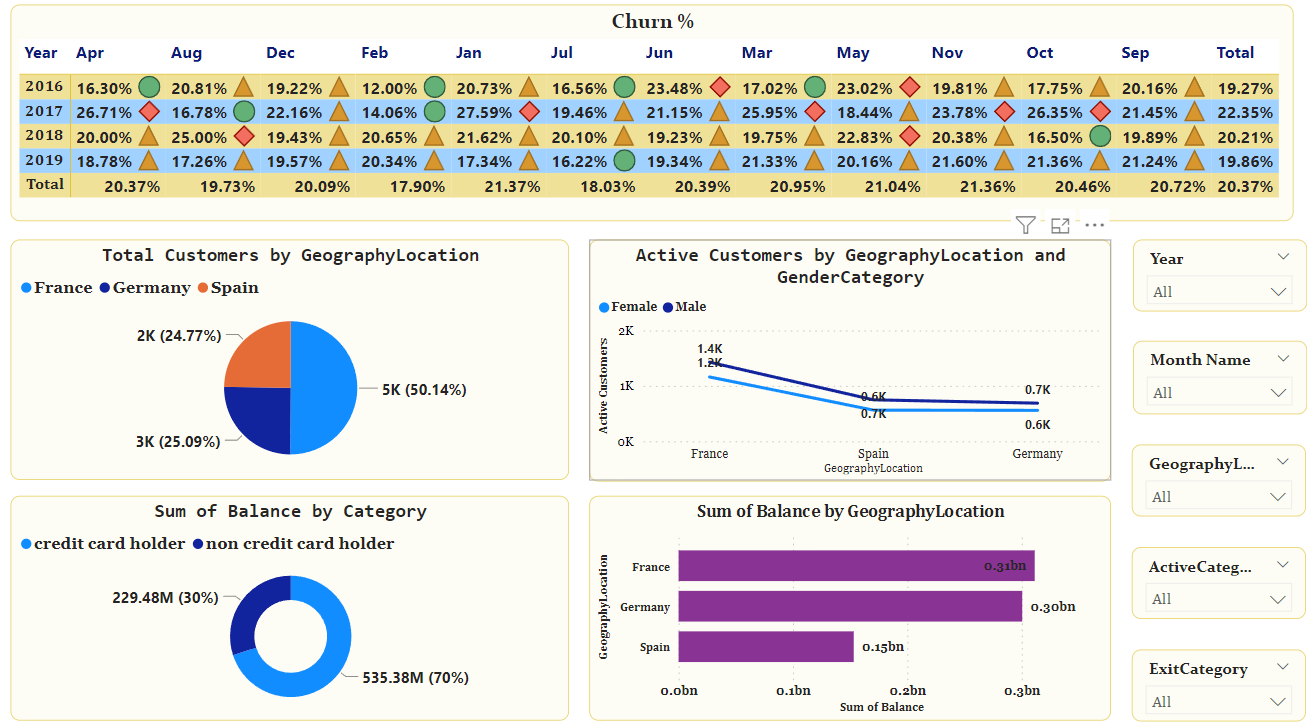

The page's visual inventory and layout, read from the dashboard file:
{"tool":"powerbi","page":{"name":"Info","canvas":[1280,720],"ordinal":1},"visuals":[{"type":"pivotTable","title":"Churn %","fields":{"Rows":["Date Master.Year"],"Columns":["Date Master.Month Name"],"Values":["Calculations.Churn %"]},"box":[11.7,11.7,1255,211.7],"z":0},{"type":"pieChart","fields":{"Category":["Geography.GeographyLocation"],"Y":["Calculations.Total Customers"]},"box":[11.7,241.7,546.7,235],"z":1000},{"type":"slicer","fields":{"Values":["Date Master.Year"]},"box":[1110,241.7,170,70],"z":2000},{"type":"slicer","fields":{"Values":["Date Master.Month Name"]},"box":[1110,341.4,170,71.7],"z":3000},{"type":"slicer","fields":{"Values":["Geography.GeographyLocation"]},"box":[1109.3,442.8,170.7,70.7],"z":4000},{"type":"slicer","fields":{"Values":["Active Customer.ActiveCategory"]},"box":[1109.3,543.2,170.7,70.7],"z":5000},{"type":"slicer","fields":{"Values":["Exit Customer.ExitCategory"]},"box":[1109.3,643.7,170.7,70.7],"z":6000},{"type":"lineChart","fields":{"Category":["Geography.GeographyLocation"],"Series":["Gender.GenderCategory"],"Y":["Calculations.Active Customers"]},"box":[578.3,241.7,510,236.7],"z":7000},{"type":"donutChart","fields":{"Category":["Credit Card.Category"],"Y":["Sum(Bank_Churn.Balance)"]},"box":[11.7,493.3,546.7,220],"z":8000},{"type":"clusteredBarChart","fields":{"Y":["Sum(Bank_Churn.Balance)"],"Category":["Geography.GeographyLocation"]},"box":[578.3,493.3,510,220],"z":9000}]}

Visuals, with their boxes in screenshot pixels (x1, y1, x2, y2), scaled from the page's 1280x720 canvas onto the 1307x725 screenshot:
"Churn %" pivotTable: (x1=12, y1=12, x2=1293, y2=225)
pieChart - Geography.GeographyLocation x Calculations.Total Customers: (x1=12, y1=243, x2=570, y2=480)
slicer - Date Master.Year: (x1=1133, y1=243, x2=1306, y2=314)
slicer - Date Master.Month Name: (x1=1133, y1=344, x2=1306, y2=416)
slicer - Geography.GeographyLocation: (x1=1133, y1=446, x2=1306, y2=517)
slicer - Active Customer.ActiveCategory: (x1=1133, y1=547, x2=1306, y2=618)
slicer - Exit Customer.ExitCategory: (x1=1133, y1=648, x2=1306, y2=719)
lineChart - Geography.GeographyLocation x Gender.GenderCategory: (x1=590, y1=243, x2=1111, y2=482)
donutChart - Credit Card.Category x Sum(Bank_Churn.Balance): (x1=12, y1=497, x2=570, y2=718)
clusteredBarChart - Sum(Bank_Churn.Balance) x Geography.GeographyLocation: (x1=590, y1=497, x2=1111, y2=718)
